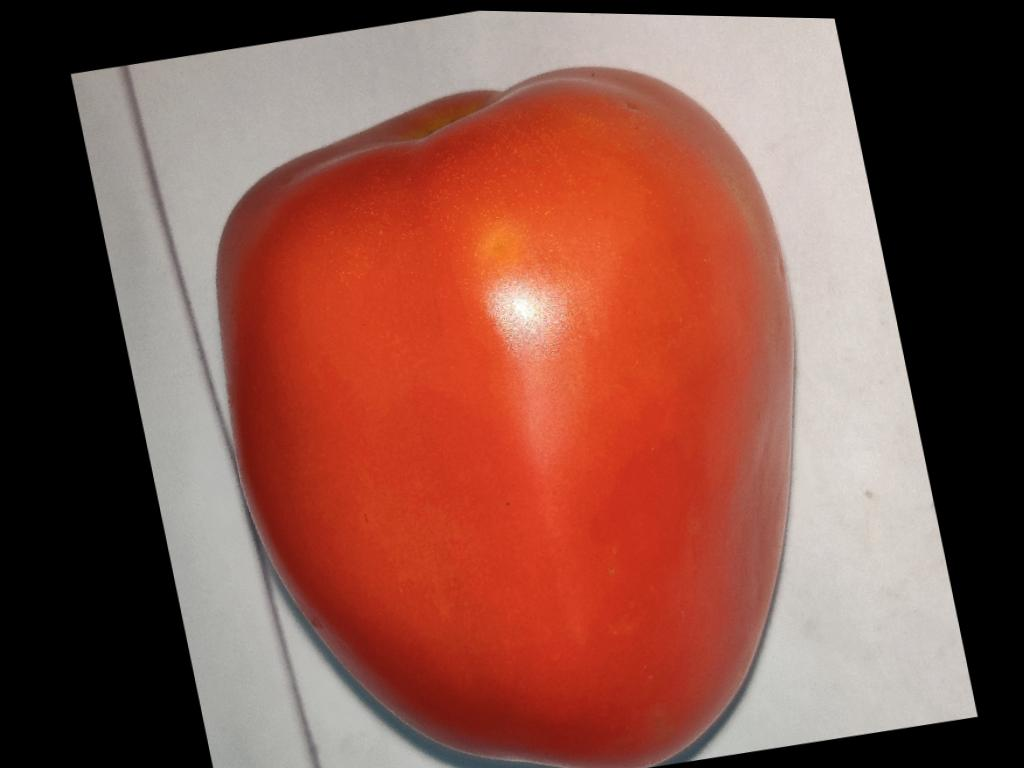tomato: (217, 68, 792, 768)
